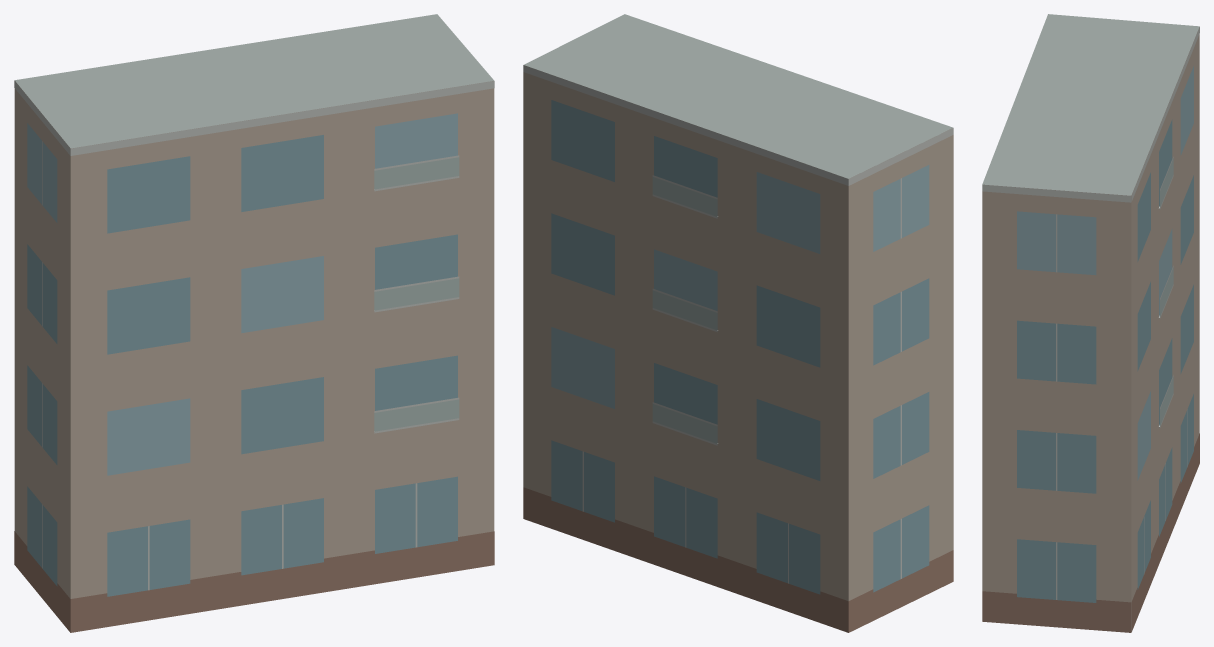
Rendered from survey-upis-33014402.glb.
The picture shows the model from 3 angles, left to right: view 1: azimuth 30°, elevation 25°; view 2: azimuth 150°, elevation 25°; view 3: azimuth 270°, elevation 25°; orthographic projection. The views are drawn at different scales.
Parts seen in each view (by area): view 1: survey-upis-33014402.tmp; view 2: survey-upis-33014402.tmp; view 3: survey-upis-33014402.tmp.
Part boxes in pixels (x1,y1,x2,y2): survey-upis-33014402.tmp: [14, 14, 494, 632]; survey-upis-33014402.tmp: [523, 14, 953, 632]; survey-upis-33014402.tmp: [982, 14, 1199, 632].
Size of the model in its own units: 13.92 by 15.6 by 7.05.
